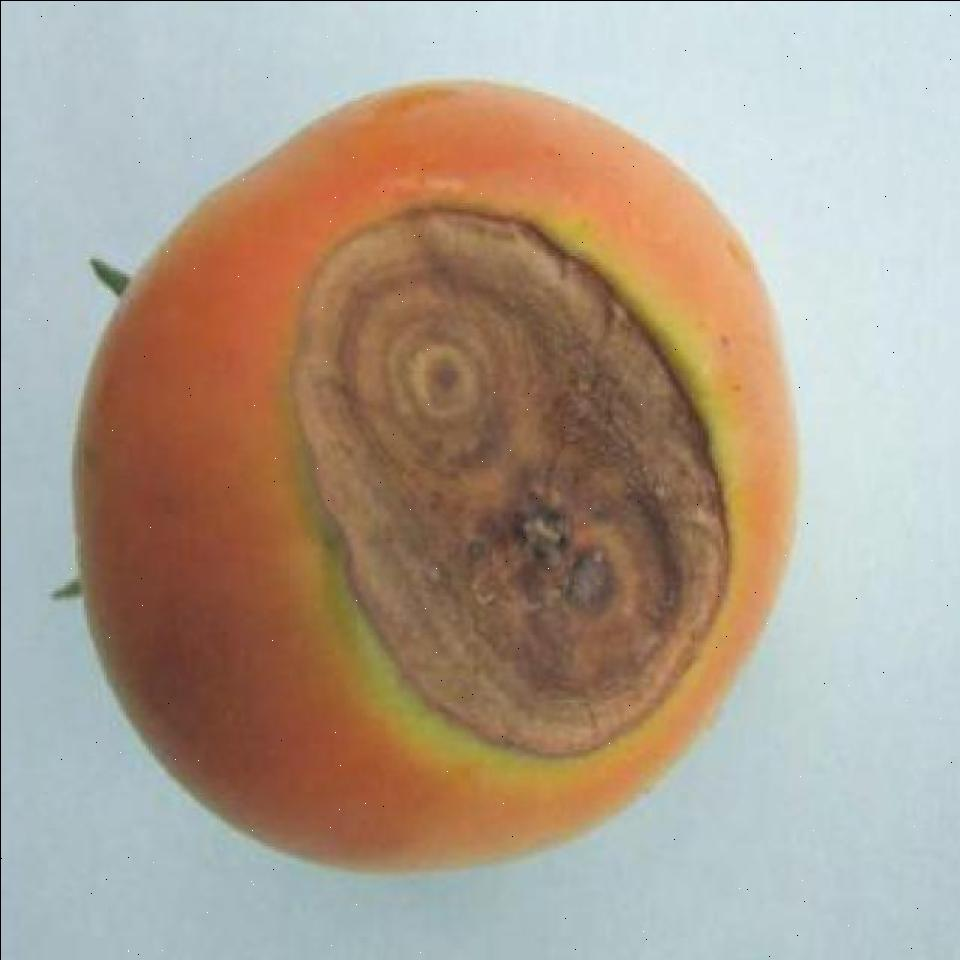Blossom_end_rot: (286, 201, 738, 765)
